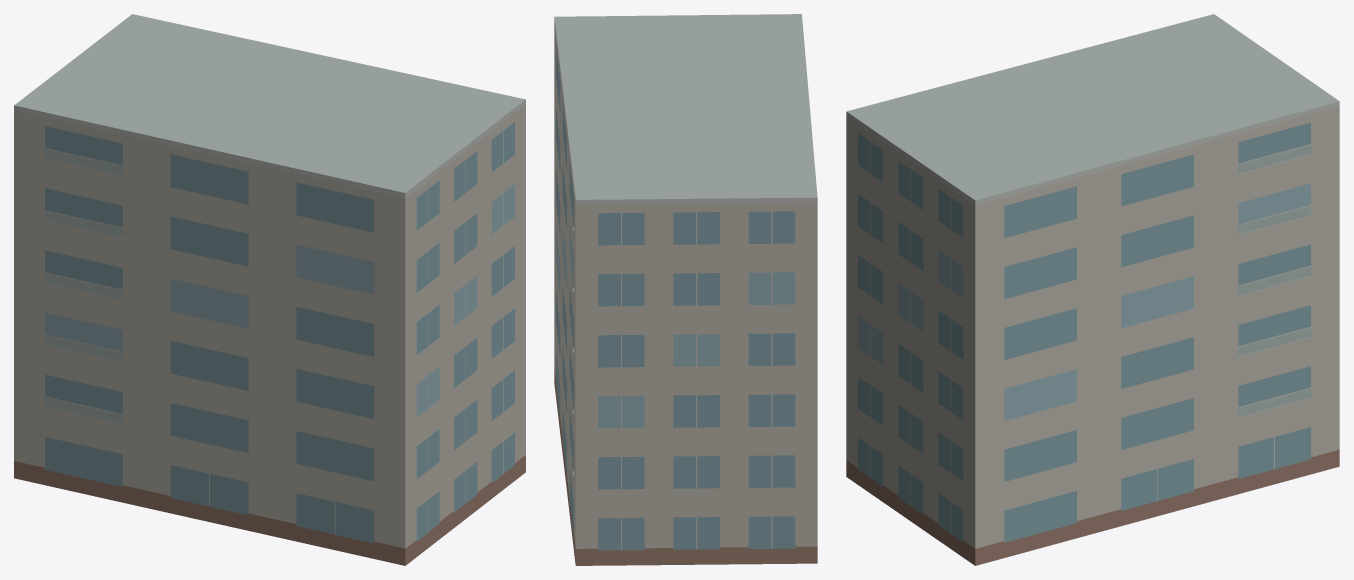
Rendered from survey-upis-32975973.glb.
3 renders of one model, left to right at view 1: azimuth 30°, elevation 25°; view 2: azimuth 150°, elevation 25°; view 3: azimuth 270°, elevation 25°, orthographic. The views are drawn at different scales.
Parts seen in each view (by area): view 1: survey-upis-32975973.tmp; view 2: survey-upis-32975973.tmp; view 3: survey-upis-32975973.tmp.
Boxes of the visible parts, x1=… form: survey-upis-32975973.tmp: x1=14, y1=14, x2=525, y2=565; survey-upis-32975973.tmp: x1=554, y1=14, x2=817, y2=565; survey-upis-32975973.tmp: x1=846, y1=14, x2=1339, y2=565.
Bounding box in the file's own units: 19.49 × 17.8 × 21.79.
